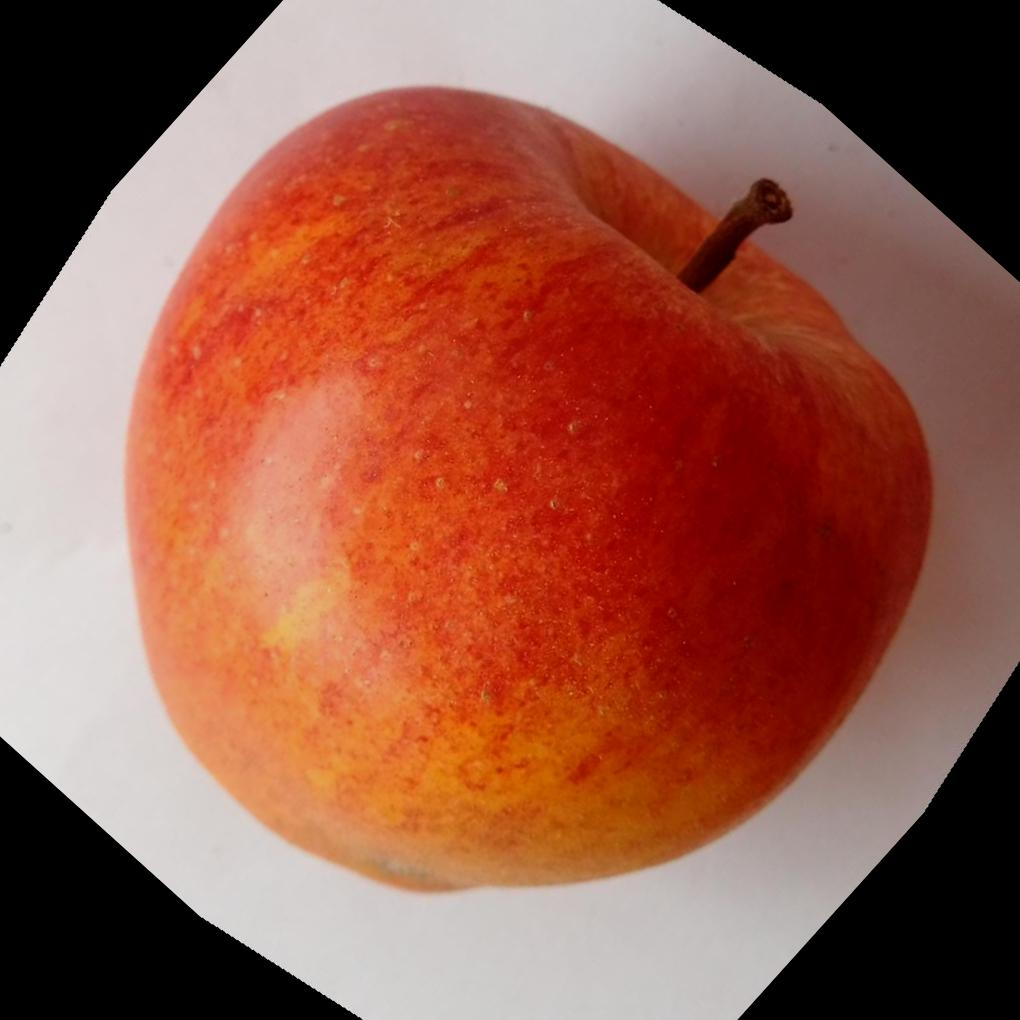FreshGuava: (117, 84, 935, 899)
